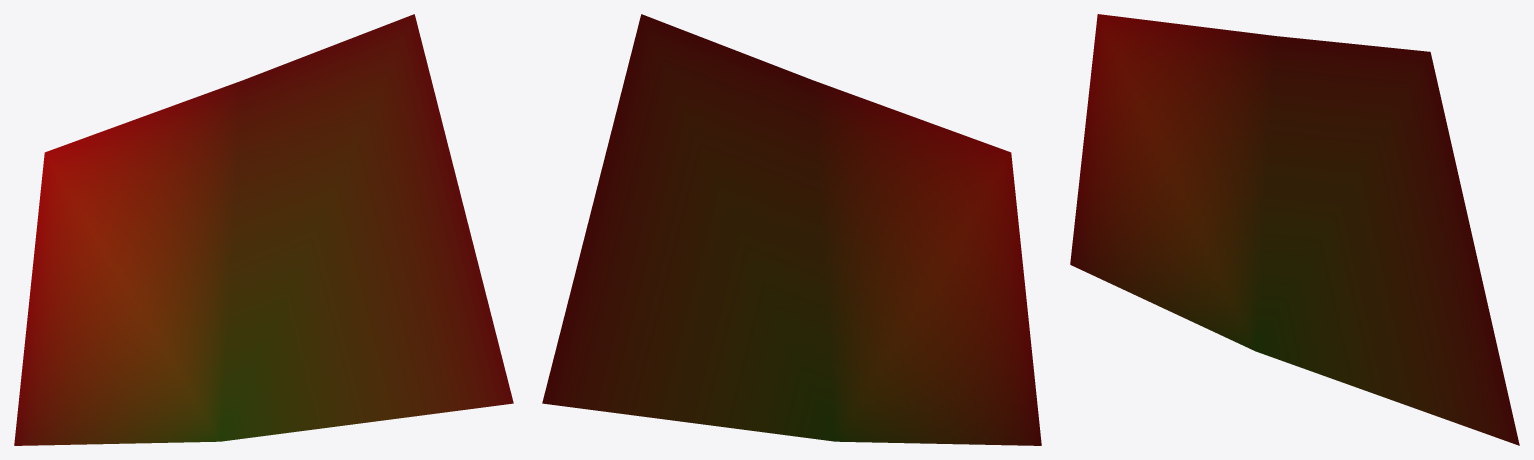
The model's file is Var3_LOD3.fbx.
3 renders of one model, left to right at view 1: azimuth 30°, elevation 25°; view 2: azimuth 150°, elevation 25°; view 3: azimuth 330°, elevation 25°, orthographic. The views are drawn at different scales.
Visible parts, largest first — view 1: _dc91_Var3_LOD3; view 2: _dc91_Var3_LOD3; view 3: _dc91_Var3_LOD3.
Part boxes in pixels (x1,y1,x2,y2): _dc91_Var3_LOD3: (14, 14, 513, 445); _dc91_Var3_LOD3: (542, 14, 1041, 445); _dc91_Var3_LOD3: (1070, 14, 1519, 445).
Size of the model in its own units: 186 by 147 by 1.43e-05.
